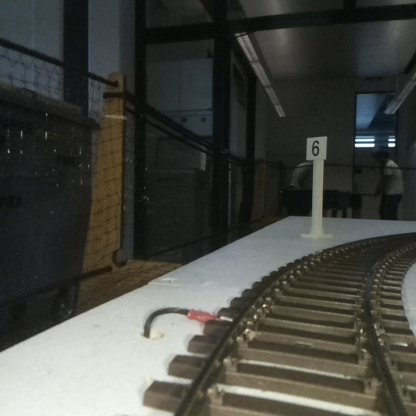white-info-6: (306, 136, 326, 238)
